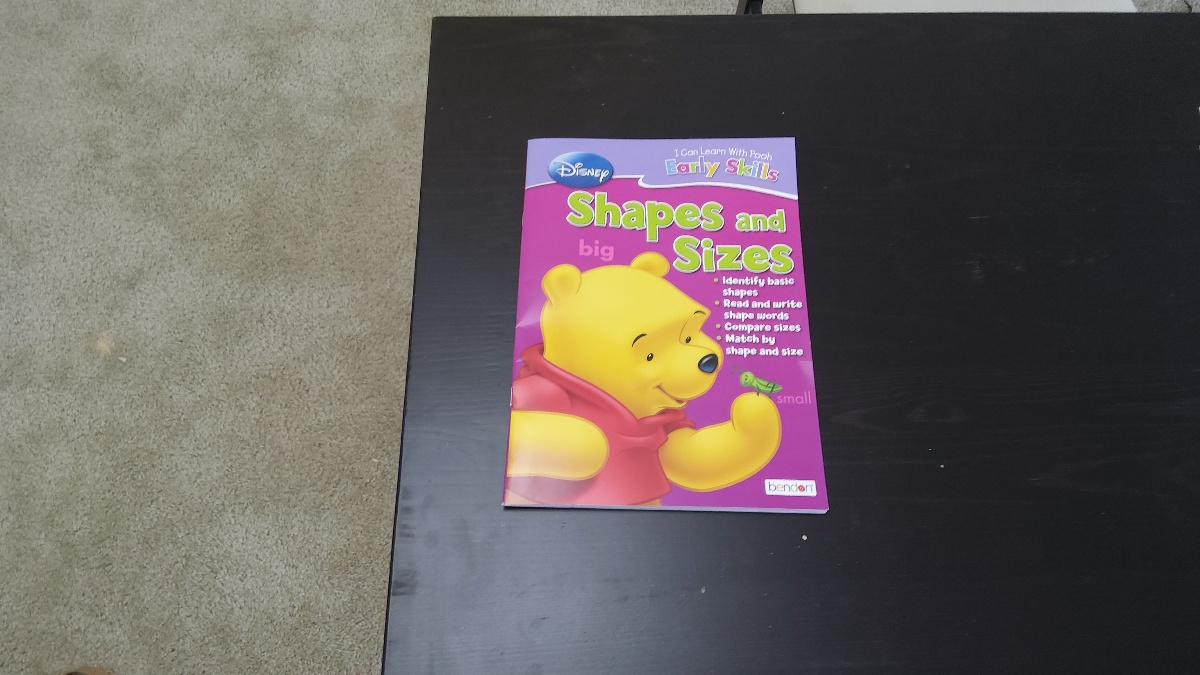book: (492, 133, 833, 523)
